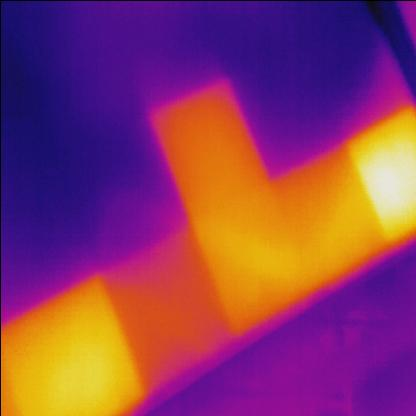hotspot: (0, 274, 140, 416), (344, 104, 416, 239)
